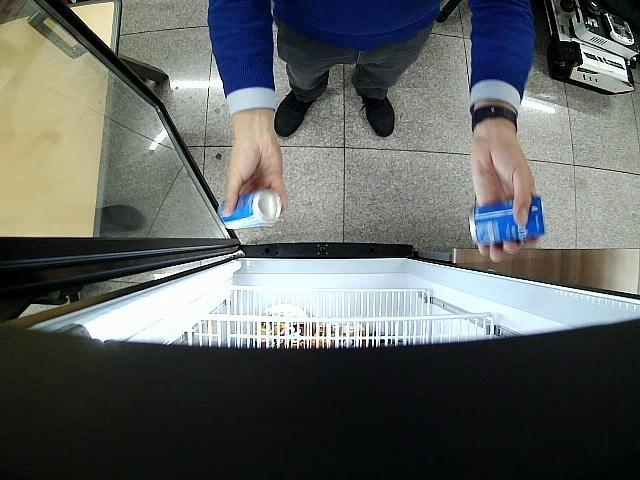15_letsbe: (469, 194, 546, 246), (216, 190, 282, 230)
